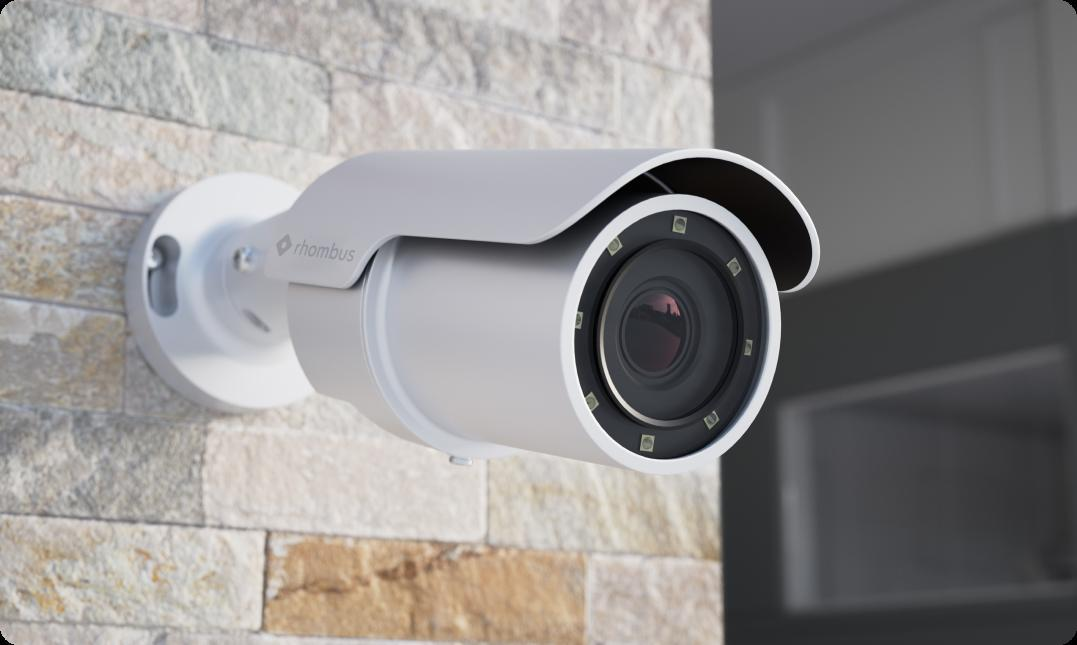CCTV: (124, 148, 820, 474)
